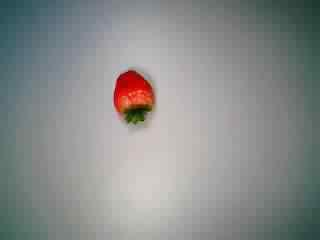strawberry: (105, 66, 164, 136)
